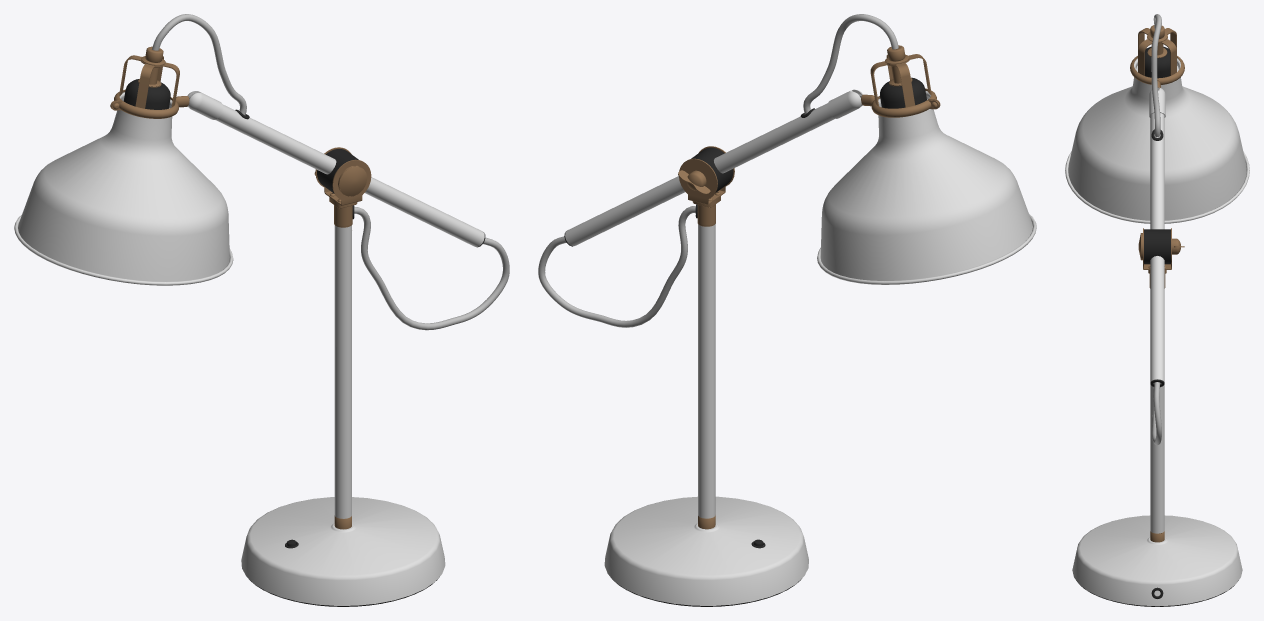
The model's file is SM_PROP_lamp_merged_0_1.glb.
The picture shows the model from 3 angles, left to right: view 1: azimuth 30°, elevation 25°; view 2: azimuth 150°, elevation 25°; view 3: azimuth 270°, elevation 25°; orthographic projection. The views are drawn at different scales.
Visible parts, largest first — view 1: SM_PROP_lamp_merged_0_1; view 2: SM_PROP_lamp_merged_0_1; view 3: SM_PROP_lamp_merged_0_1.
Boxes of the visible parts, bbox=[...] form: SM_PROP_lamp_merged_0_1: bbox=[14, 14, 509, 606]; SM_PROP_lamp_merged_0_1: bbox=[538, 14, 1036, 606]; SM_PROP_lamp_merged_0_1: bbox=[1065, 14, 1249, 606].
Bounding box in the file's own units: 0.0475 × 0.0555 × 0.019.
